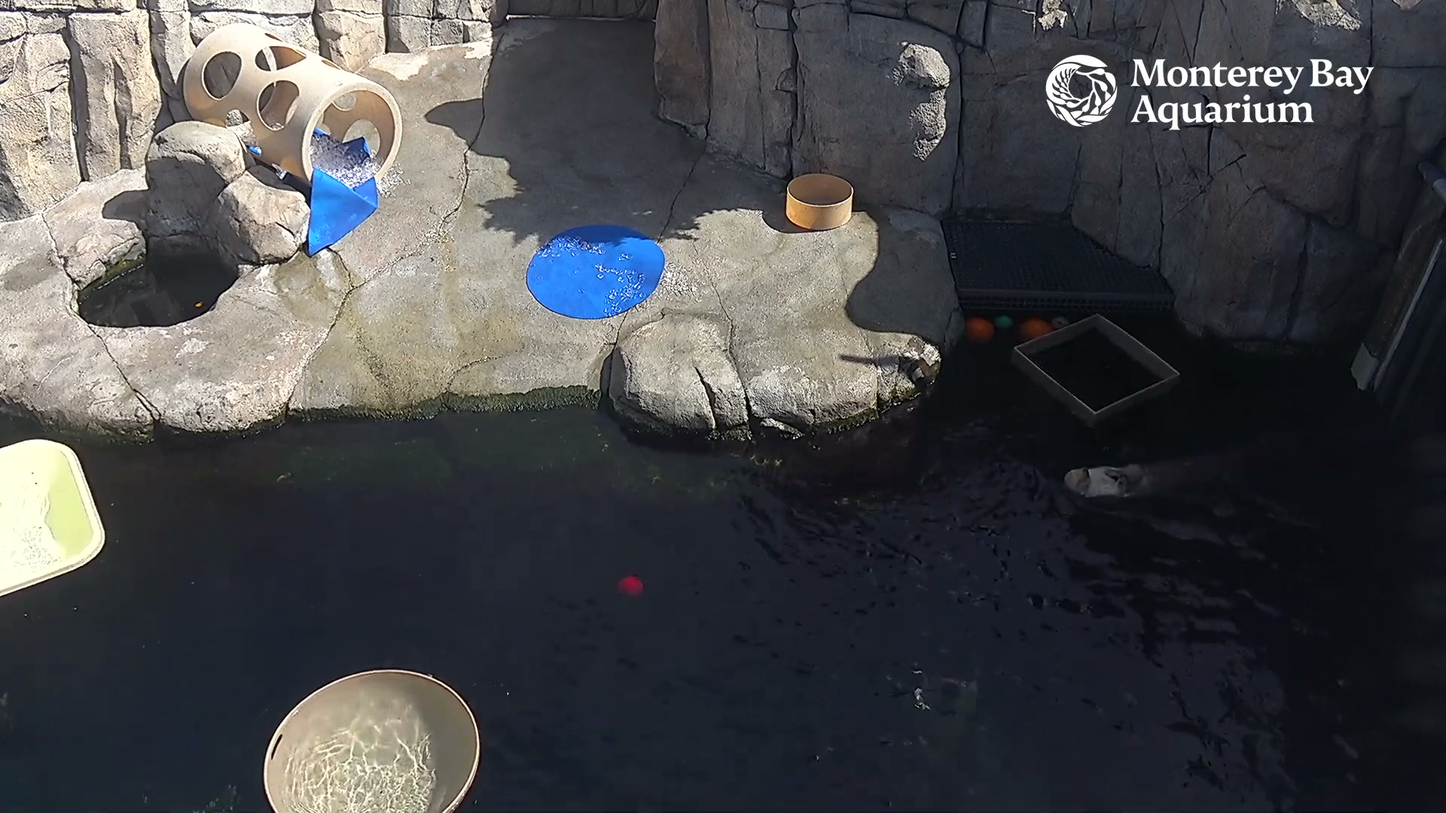Southern Sea Otter: (1036, 440, 1263, 510)
